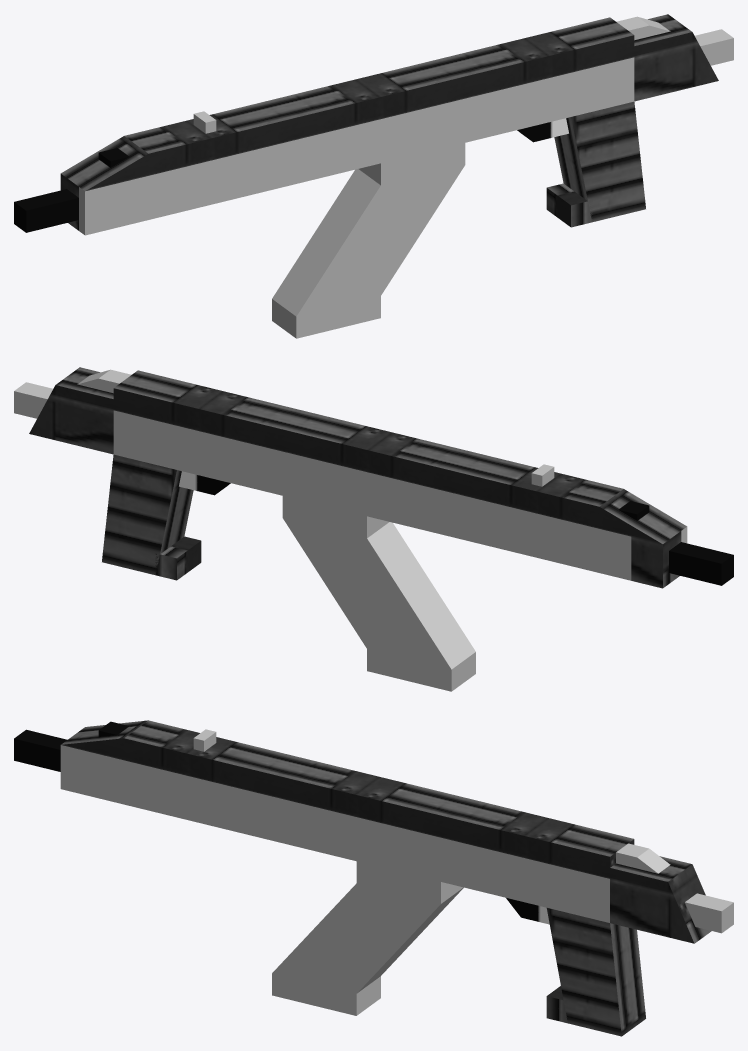
3 views of the same model, one above another, from view 1: azimuth 30°, elevation 25°; view 2: azimuth 150°, elevation 25°; view 3: azimuth 330°, elevation 25° (orthographic).
Parts seen in each view (by area): view 1: entity0_brush0, entity0_brush4, entity0_brush14, entity0_brush1, entity0_brush2, entity0_brush13, entity0_brush12, entity0_brush9, entity0_brush6, entity0_brush11, entity0_brush17, entity0_brush3 (+1 smaller); view 2: entity0_brush0, entity0_brush4, entity0_brush14, entity0_brush1, entity0_brush2, entity0_brush13, entity0_brush12, entity0_brush9, entity0_brush5, entity0_brush11, entity0_brush17, entity0_brush3 (+1 smaller); view 3: entity0_brush0, entity0_brush4, entity0_brush14, entity0_brush1, entity0_brush2, entity0_brush13, entity0_brush12, entity0_brush9, entity0_brush6, entity0_brush17, entity0_brush16, entity0_brush3 (+1 smaller).
Part boxes in pixels (x1,y1,x2,y2): entity0_brush0: (61, 17, 634, 191); entity0_brush4: (116, 57, 634, 227); entity0_brush14: (272, 165, 464, 316); entity0_brush1: (554, 101, 645, 222); entity0_brush2: (634, 14, 718, 101); entity0_brush13: (272, 296, 380, 338); entity0_brush12: (359, 143, 465, 185); entity0_brush9: (14, 189, 78, 232); entity0_brush6: (79, 183, 116, 235); entity0_brush11: (546, 183, 592, 227); entity0_brush17: (695, 29, 733, 65); entity0_brush3: (517, 118, 568, 142); entity0_brush0: (113, 370, 686, 544); entity0_brush4: (113, 410, 631, 580); entity0_brush14: (283, 518, 475, 669); entity0_brush1: (102, 454, 193, 575); entity0_brush2: (29, 367, 113, 454); entity0_brush13: (367, 649, 475, 691); entity0_brush12: (282, 496, 388, 538); entity0_brush9: (669, 542, 733, 585); entity0_brush5: (631, 536, 668, 588); entity0_brush11: (155, 536, 201, 580); entity0_brush17: (14, 382, 52, 418); entity0_brush3: (179, 471, 230, 495); entity0_brush0: (61, 720, 634, 878); entity0_brush4: (92, 752, 609, 922); entity0_brush14: (272, 883, 463, 993); entity0_brush1: (546, 908, 645, 1036); entity0_brush2: (610, 856, 711, 943); entity0_brush13: (272, 973, 380, 1015); entity0_brush12: (356, 861, 463, 903); entity0_brush9: (14, 729, 67, 771); entity0_brush6: (60, 745, 92, 796); entity0_brush17: (685, 893, 733, 933); entity0_brush16: (616, 843, 670, 873); entity0_brush3: (506, 898, 549, 924).
Size of the model in its own units: 268 by 84 by 16.
